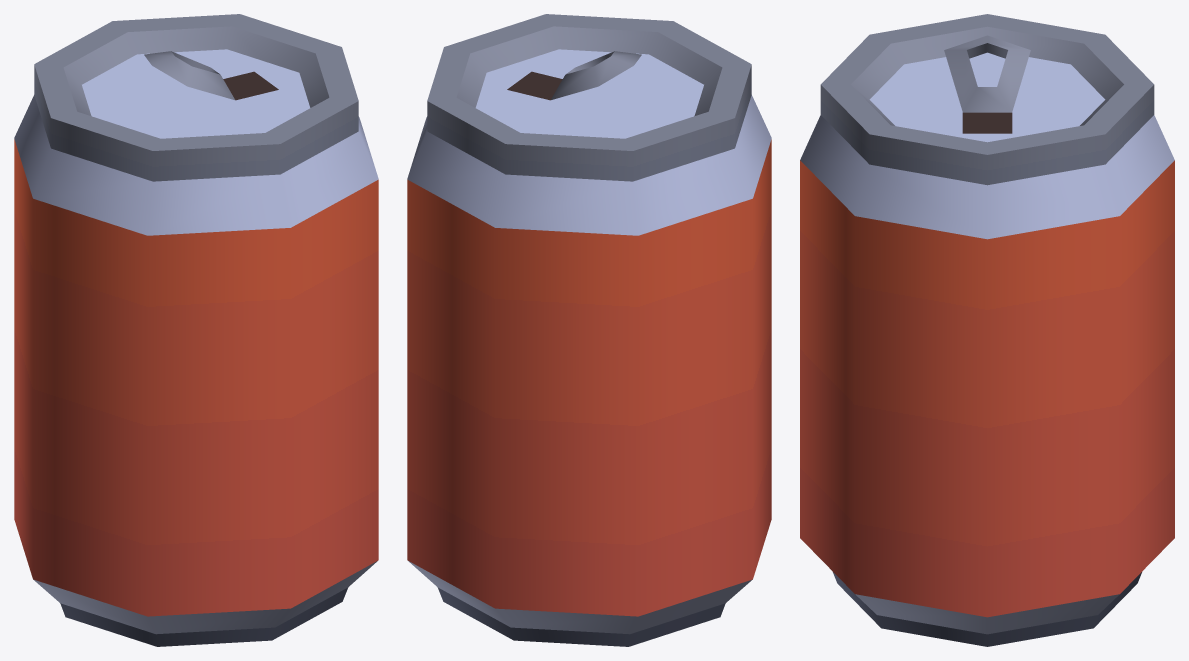
File: soda-can.glb
3 views of the same model, side by side, from view 1: azimuth 30°, elevation 25°; view 2: azimuth 150°, elevation 25°; view 3: azimuth 270°, elevation 25° (orthographic).
Visible parts, largest first — view 1: soda-can; view 2: soda-can; view 3: soda-can.
Part boxes in pixels (x1=…): soda-can: x1=14, y1=14, x2=378, y2=646; soda-can: x1=407, y1=14, x2=771, y2=646; soda-can: x1=800, y1=14, x2=1174, y2=646.
Bounding box in the file's own units: 0.2246 × 0.3506 × 0.2246.
1 material, 1 textured.
